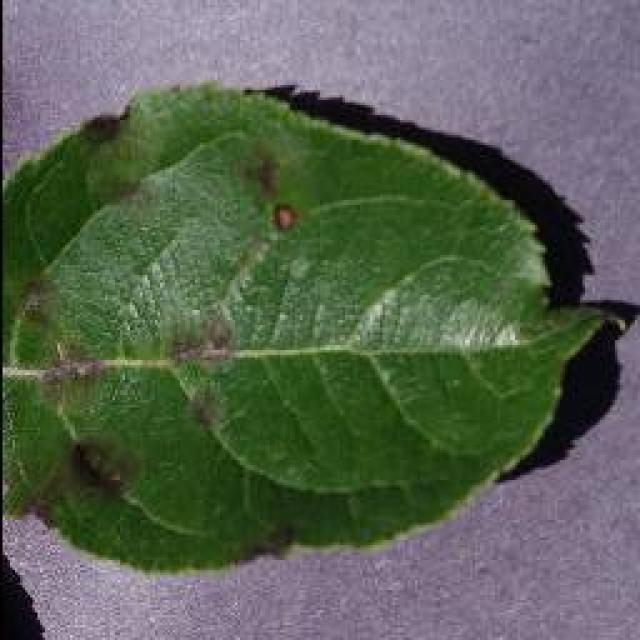apple scab disease: (0, 80, 632, 577)
